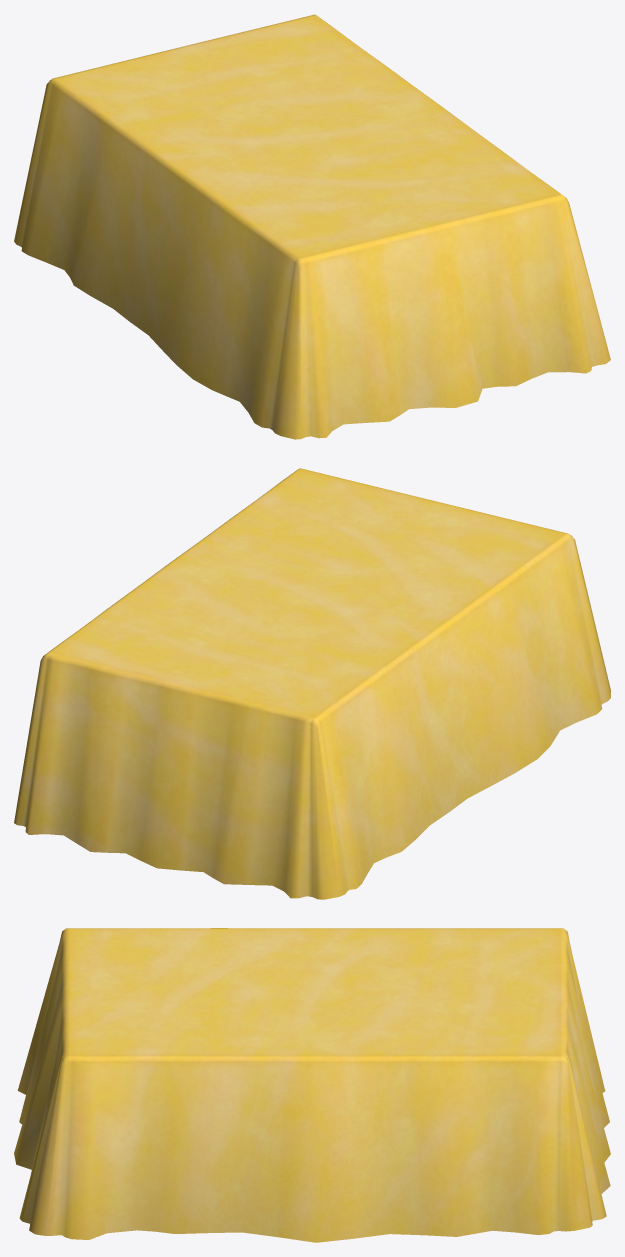
Rendered from die_table.fbx.
3 views of the same model, one above another, from view 1: azimuth 30°, elevation 25°; view 2: azimuth 150°, elevation 25°; view 3: azimuth 270°, elevation 25° (orthographic). The views are drawn at different scales.
Parts seen in each view (by area): view 1: die_table; view 2: die_table; view 3: die_table.
Boxes of the visible parts, x1,y1,x2,y2 form: die_table: (14,14,610,439); die_table: (14,468,610,899); die_table: (14,928,610,1242).
Size of the model in its own units: 158 by 69.51 by 233.
1 material, 1 textured.
